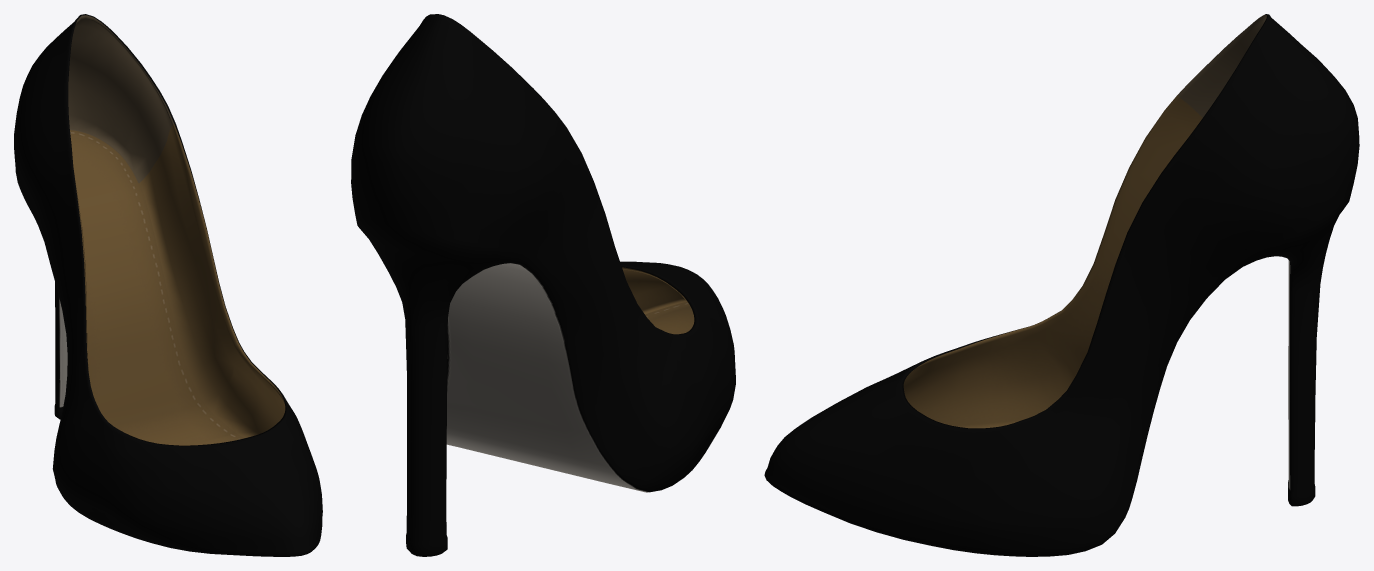
Rendered from shoe.glb.
3 views of the same model, side by side, from view 1: azimuth 30°, elevation 25°; view 2: azimuth 150°, elevation 25°; view 3: azimuth 270°, elevation 25° (orthographic). The views are drawn at different scales.
Visible parts, largest first — view 1: node_id38; view 2: node_id38; view 3: node_id38.
Boxes of the visible parts, bbox=[...] form: node_id38: bbox=[14, 14, 322, 556]; node_id38: bbox=[351, 14, 735, 556]; node_id38: bbox=[764, 14, 1359, 556].
Bounding box in the file's own units: 0.2776 × 0.512 × 0.5697.
1 material, 1 textured.
